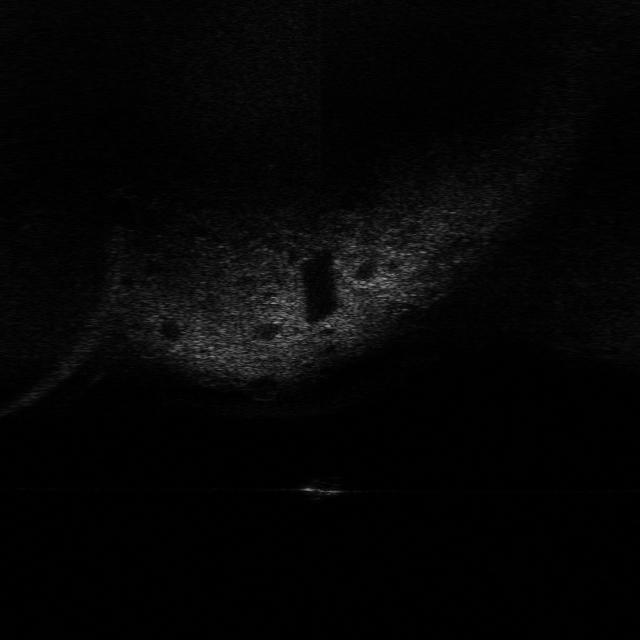cube: (294, 474, 347, 502)
